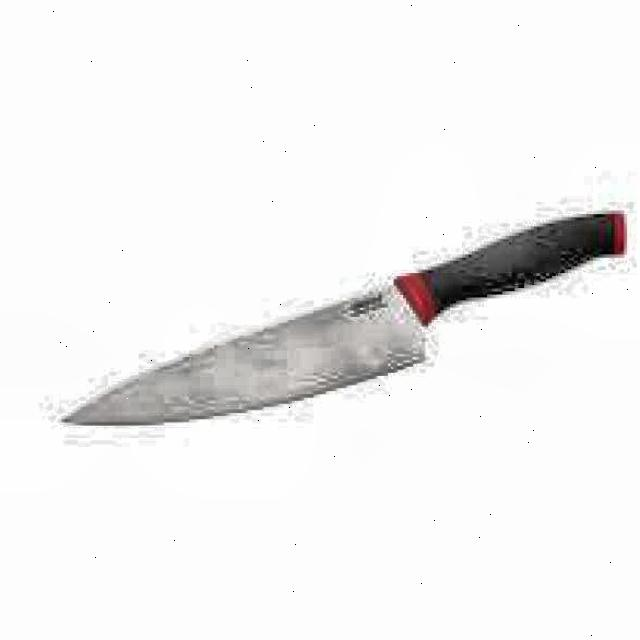knife: (56, 201, 634, 437)
